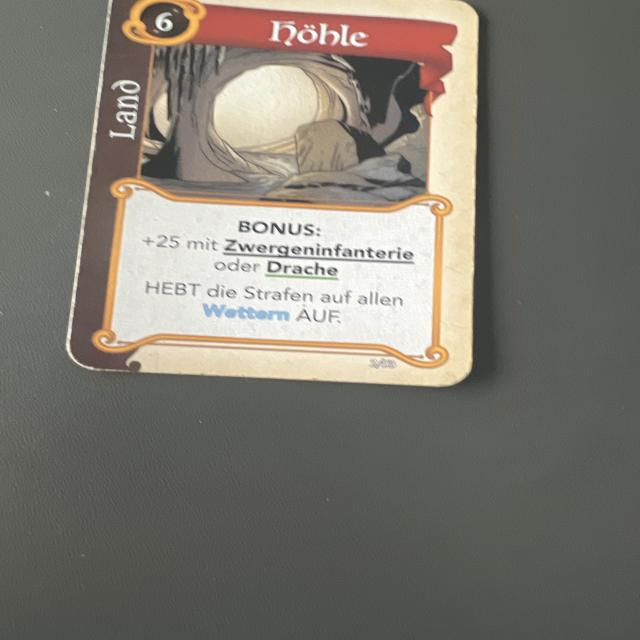Underground Caverns: (56, 0, 478, 389)
